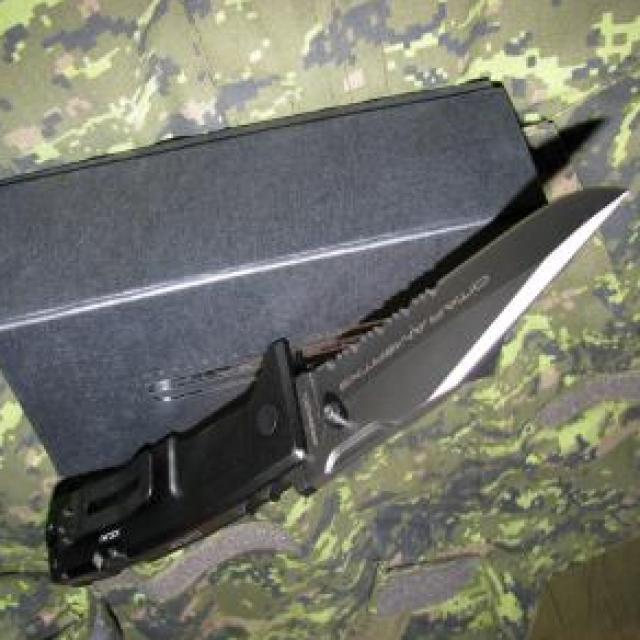knife: (276, 182, 639, 508)
